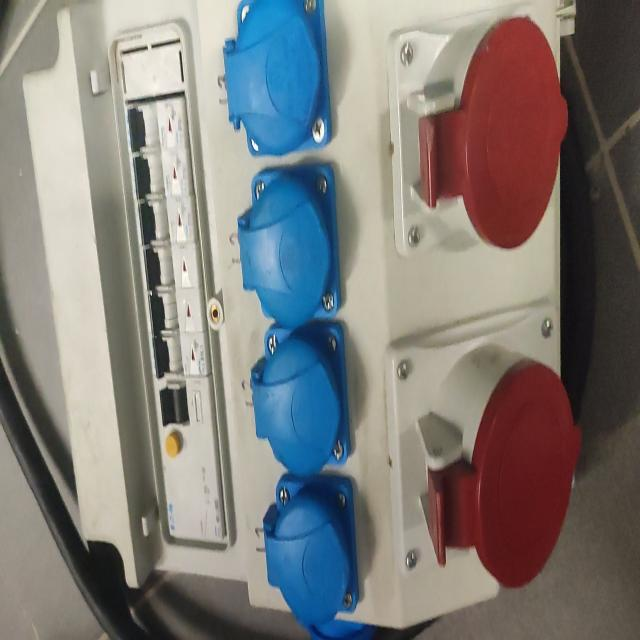400v socket: (386, 299, 581, 586), (386, 8, 569, 258)
house plug covered: (224, 0, 336, 157), (240, 161, 340, 327), (250, 320, 352, 477), (262, 475, 359, 627)
